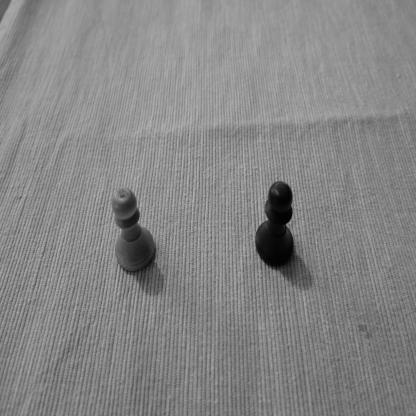black-pawn: (254, 180, 296, 270)
white-pawn: (112, 186, 155, 274)
